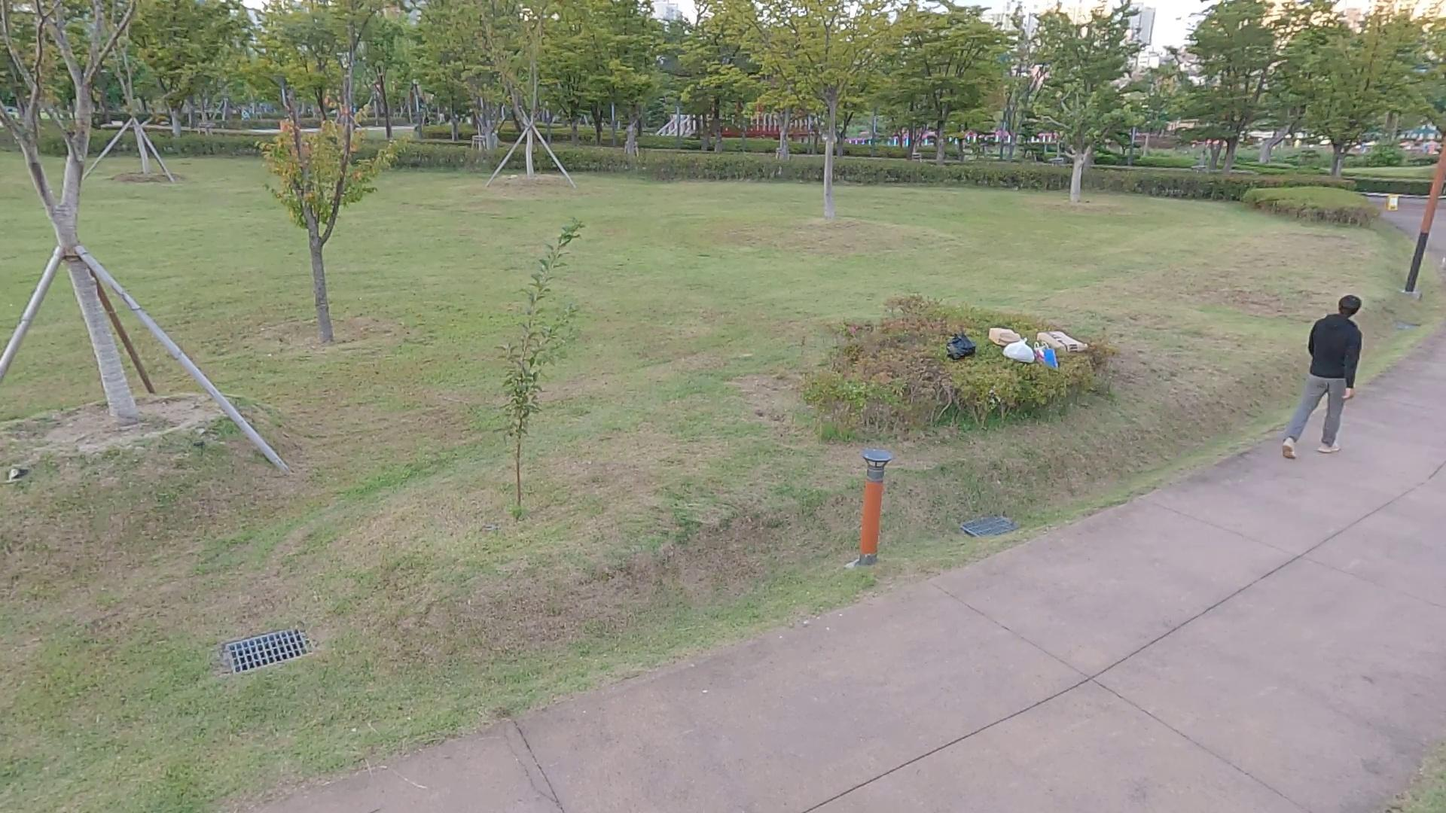person: (1278, 294, 1366, 462)
trash: (1036, 329, 1090, 355), (999, 336, 1035, 365), (948, 325, 976, 360), (1031, 340, 1059, 374), (989, 326, 1023, 348)
